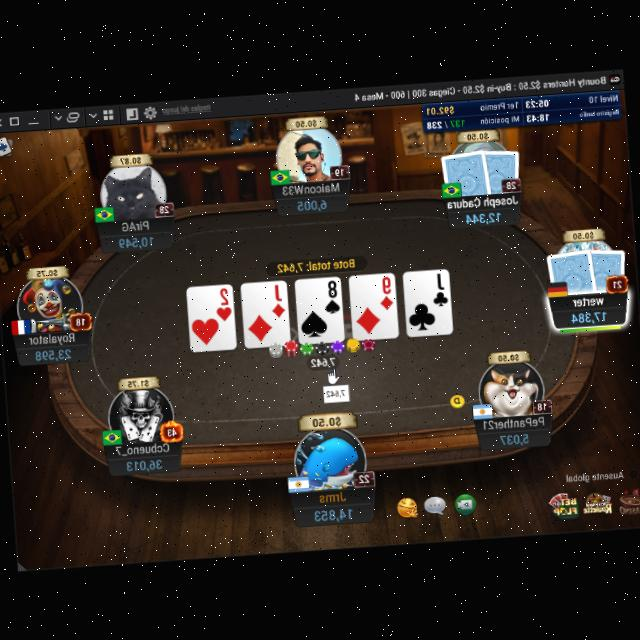2h: (212, 286, 232, 322)
8s: (322, 278, 341, 314)
9d: (376, 274, 394, 312)
Jc: (428, 269, 448, 308)
Jd: (268, 281, 287, 319)
bet_text: (308, 353, 338, 371)
card_back: (543, 244, 597, 298), (438, 146, 492, 200), (583, 243, 629, 295), (478, 144, 522, 194)
dealer: (448, 391, 466, 408)
pot_text: (274, 255, 356, 272)
stack_text: (312, 504, 355, 524), (570, 306, 608, 324), (124, 455, 163, 472), (32, 344, 72, 360), (464, 208, 501, 225), (118, 233, 154, 250), (294, 196, 328, 212), (496, 430, 530, 446)
